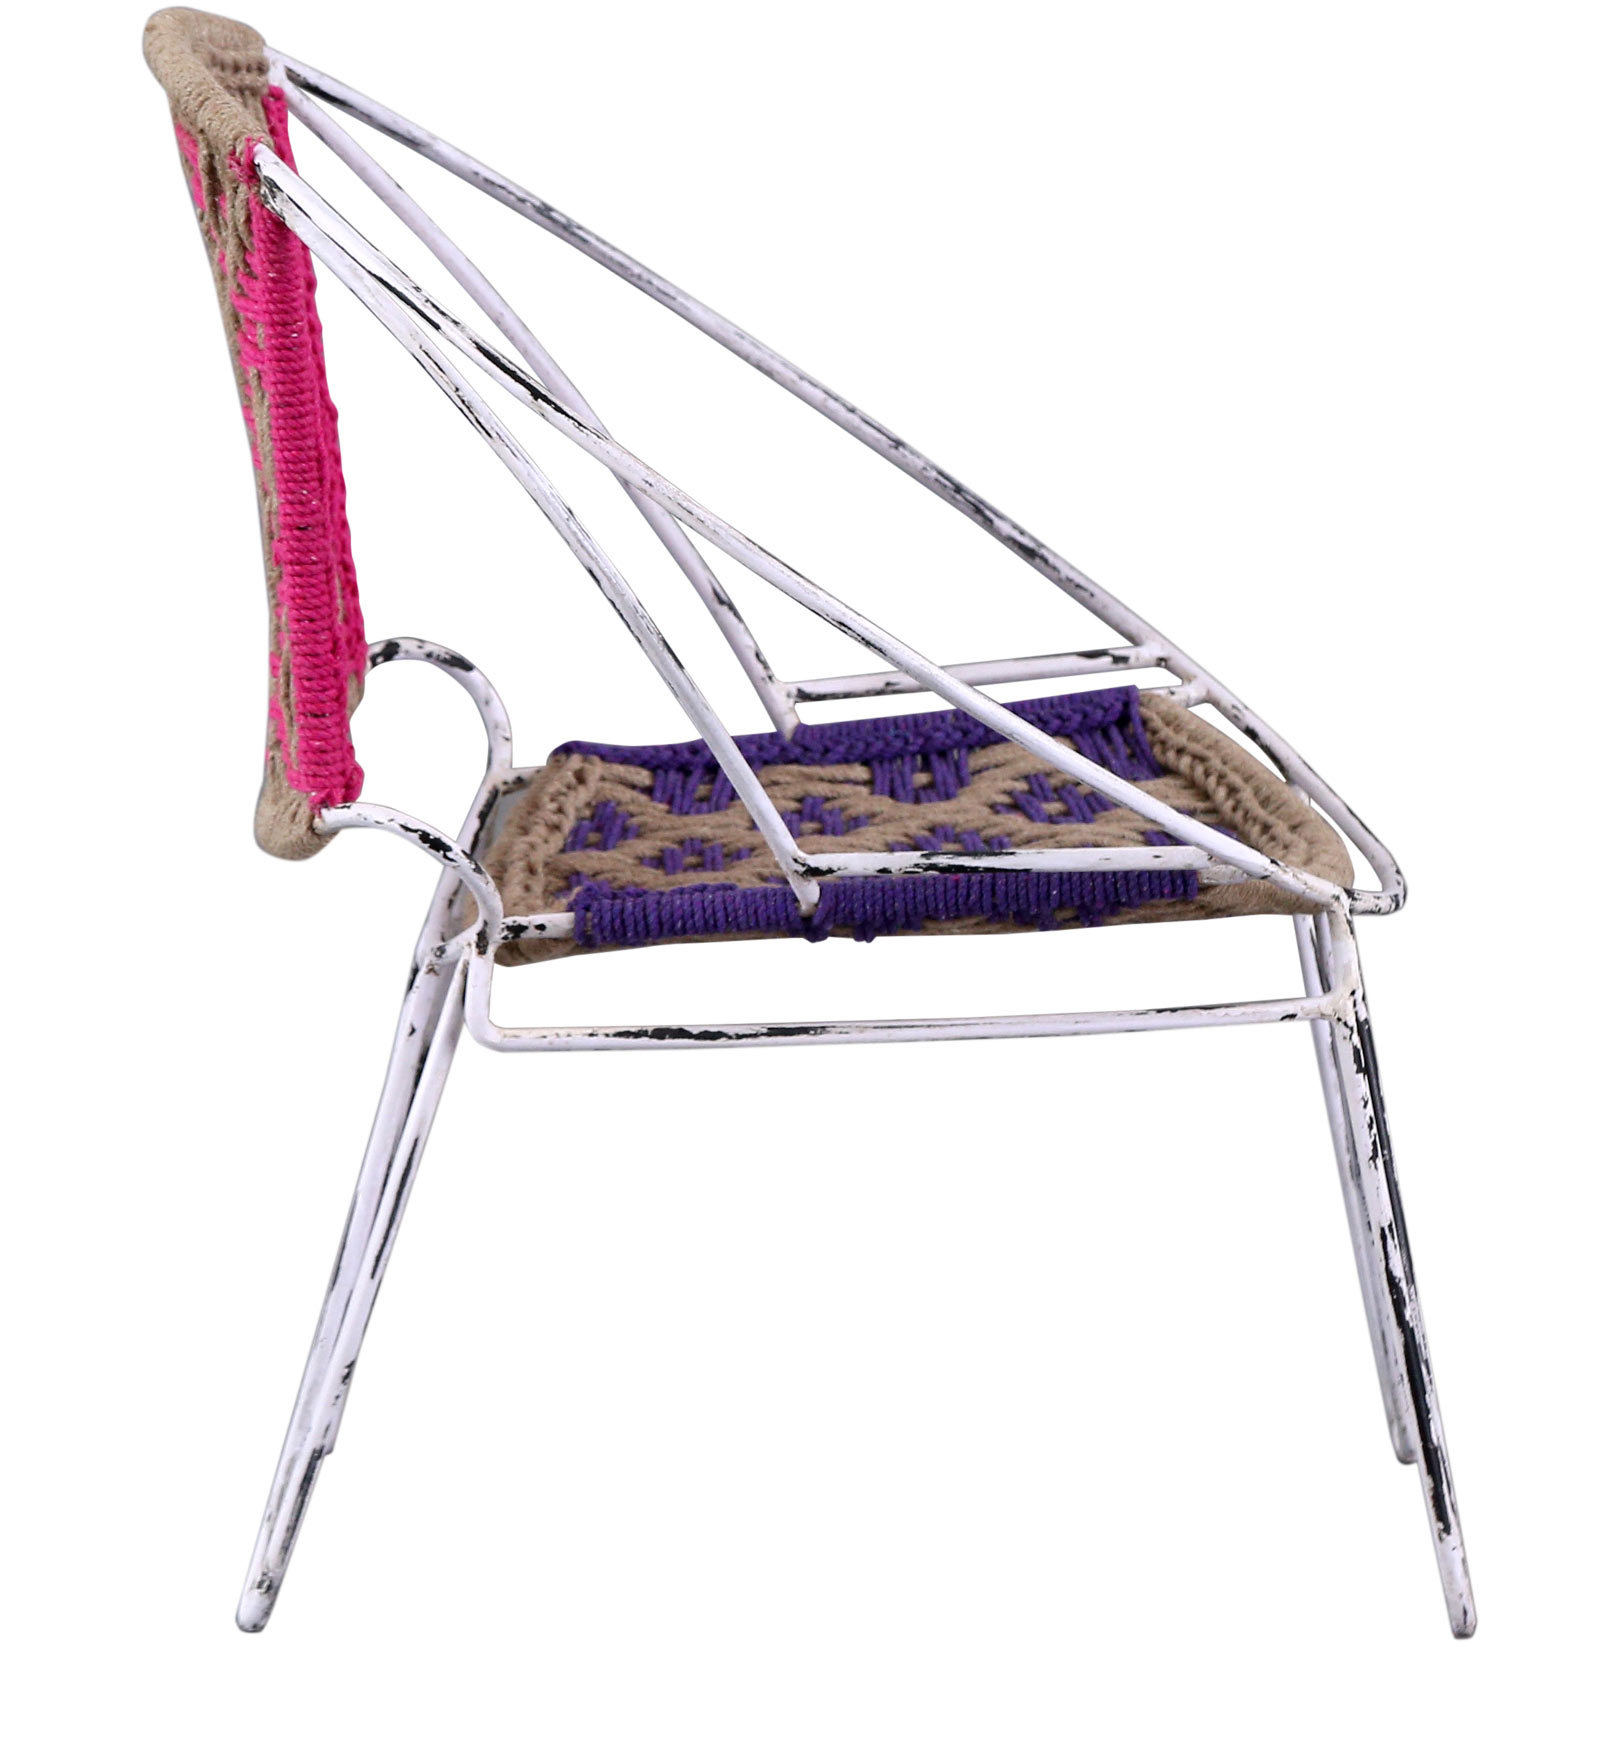Ambatovy Outdoor Chair in Multicolour by Bohemiana: (87, 5, 1533, 1685)
